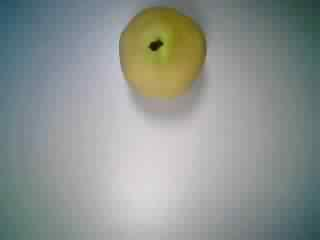pear: (109, 1, 215, 107)
